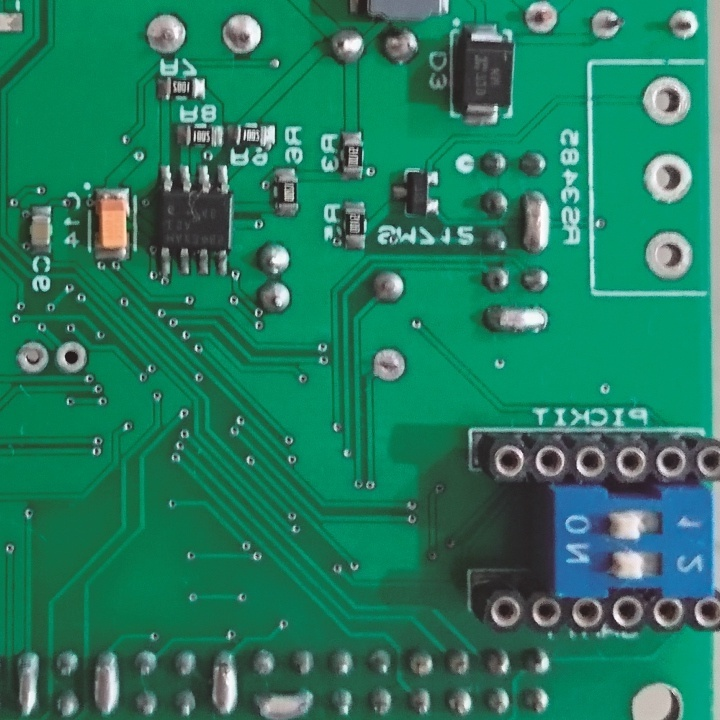F: (641, 225, 695, 283), (639, 151, 694, 205), (640, 75, 693, 125), (143, 12, 190, 60), (220, 13, 266, 58), (370, 346, 412, 385), (586, 6, 626, 43), (13, 338, 50, 375), (525, 1, 559, 40), (666, 7, 701, 44), (54, 340, 87, 375)
P: (518, 186, 553, 255), (481, 301, 549, 336), (250, 686, 316, 720), (91, 647, 121, 720), (11, 648, 41, 720), (209, 648, 239, 715)
